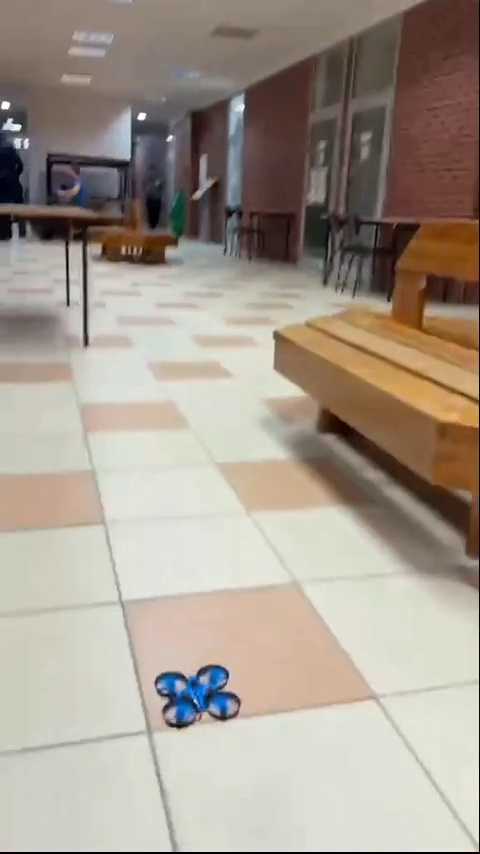drone: (155, 664, 237, 728)
no vest: (137, 151, 173, 234), (51, 165, 98, 217)
